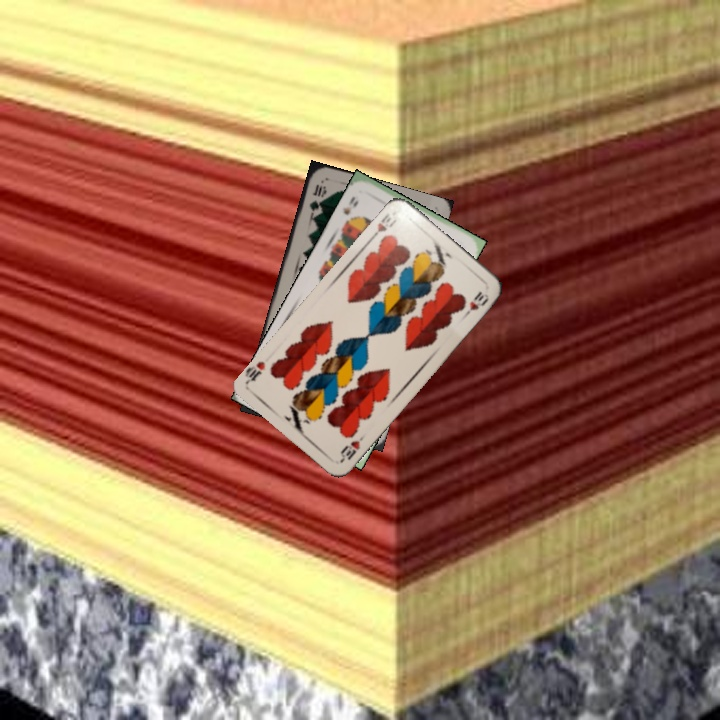G10: (305, 180, 327, 219)
H10: (367, 209, 399, 242), (336, 431, 368, 464)
S9: (339, 192, 361, 227)
